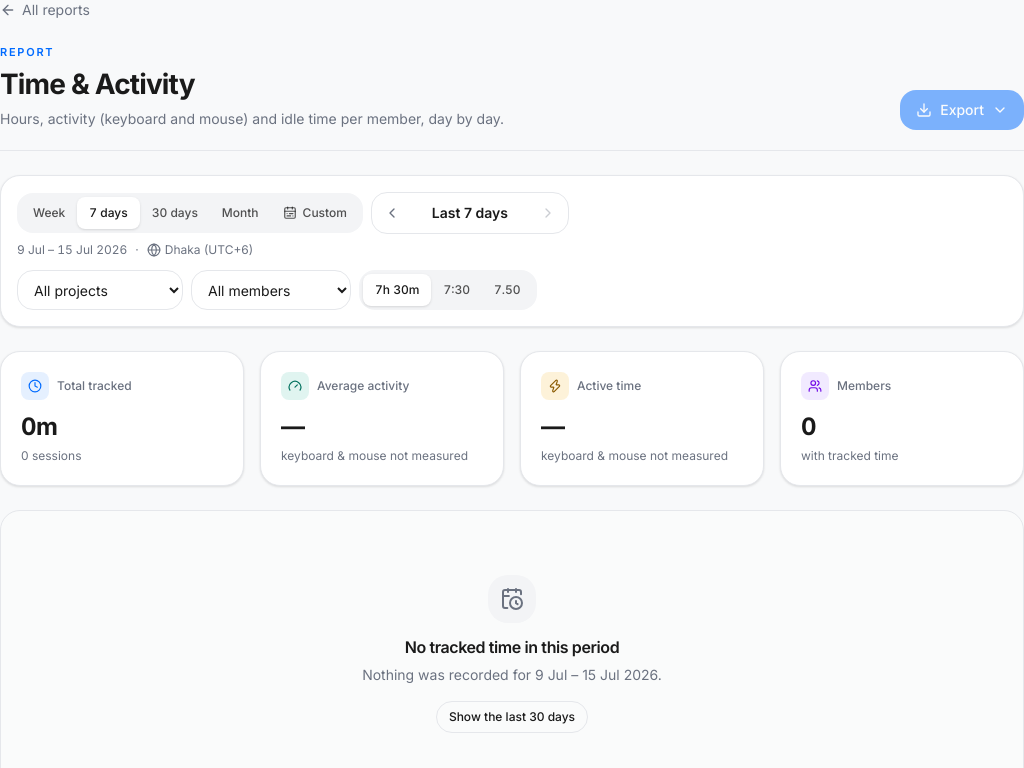
it: Time & Activity (live) › a custom range asks for exactly its days, in the reporting zone
Expected: the text "No tracked time in this period" is shown, [405,637,619,657]
Click the button "Custom" at (315, 213), box [271,197,359,229]
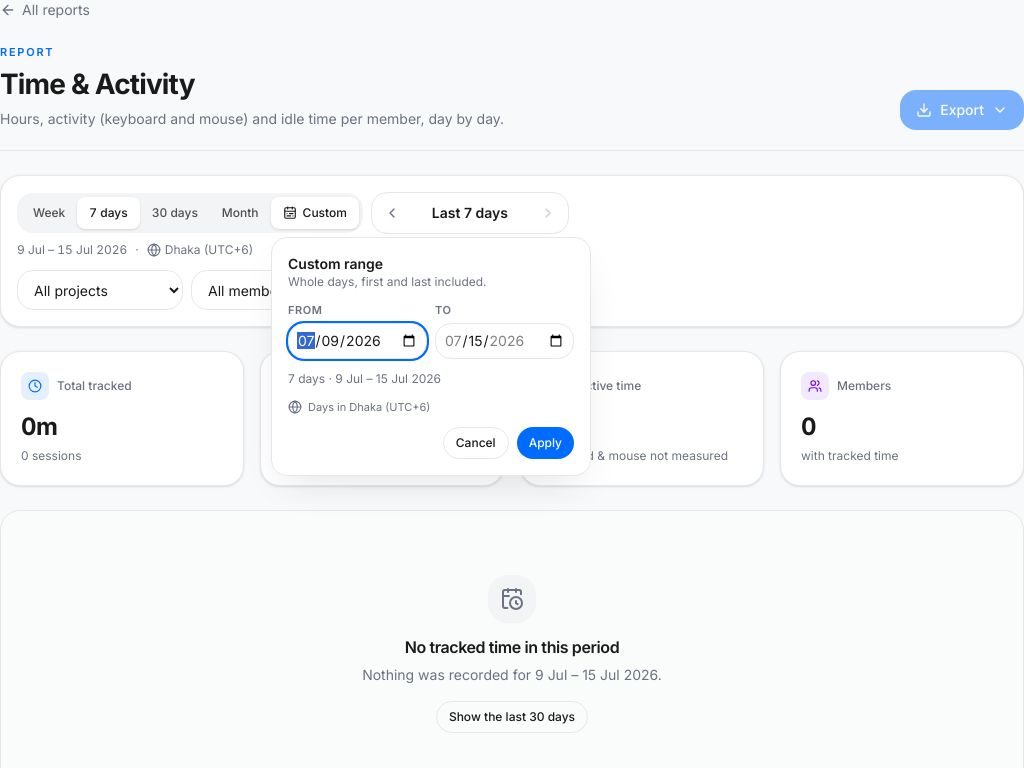
Type "2026-07-01" into the date field labelled "From" at (358, 340), box [288,322,427,358]
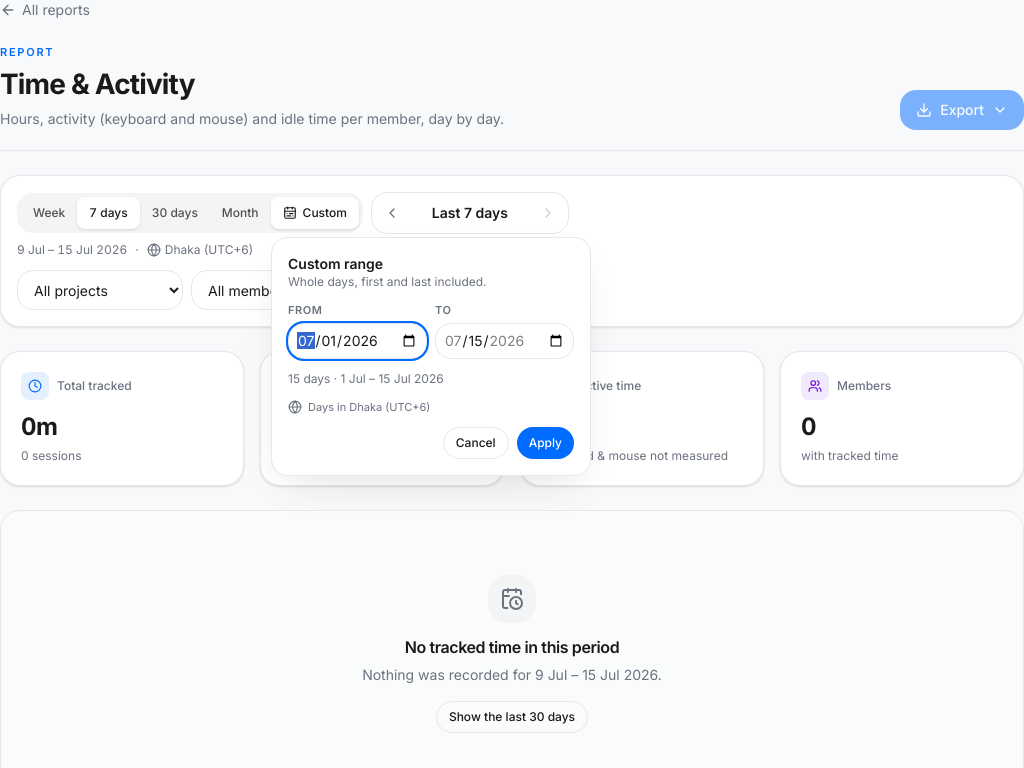
Type "2026-07-11" into the date field labelled "To" at (504, 340), box [435,322,574,358]
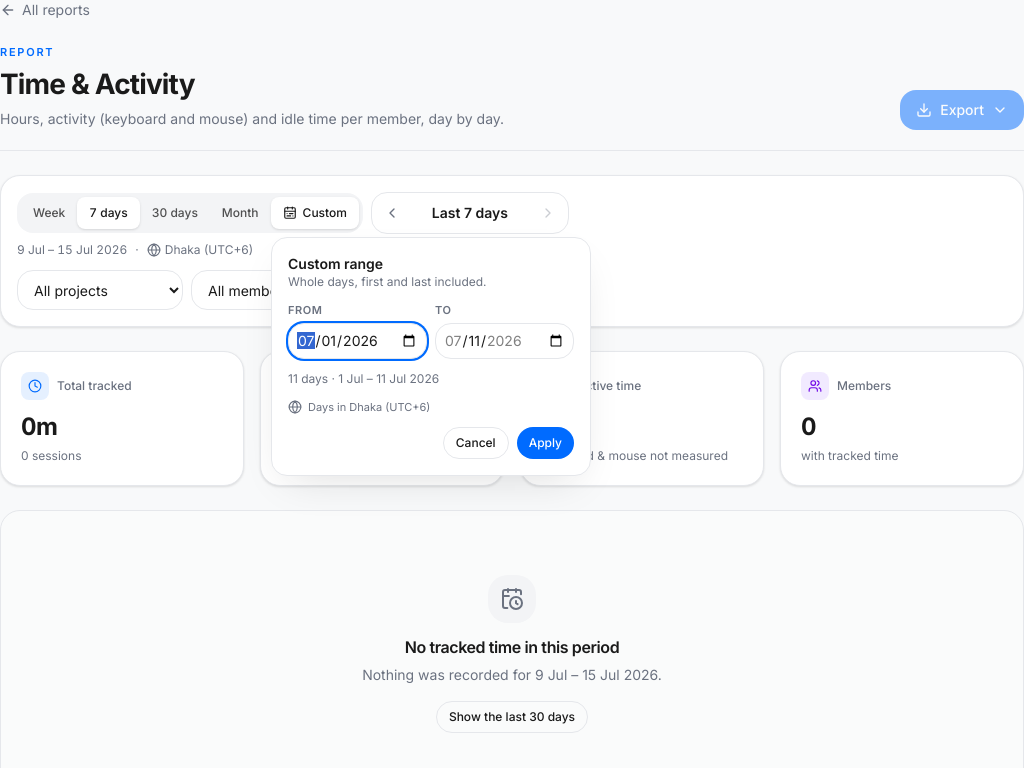
Click the button "Apply" at (545, 443), box [517,427,574,459]
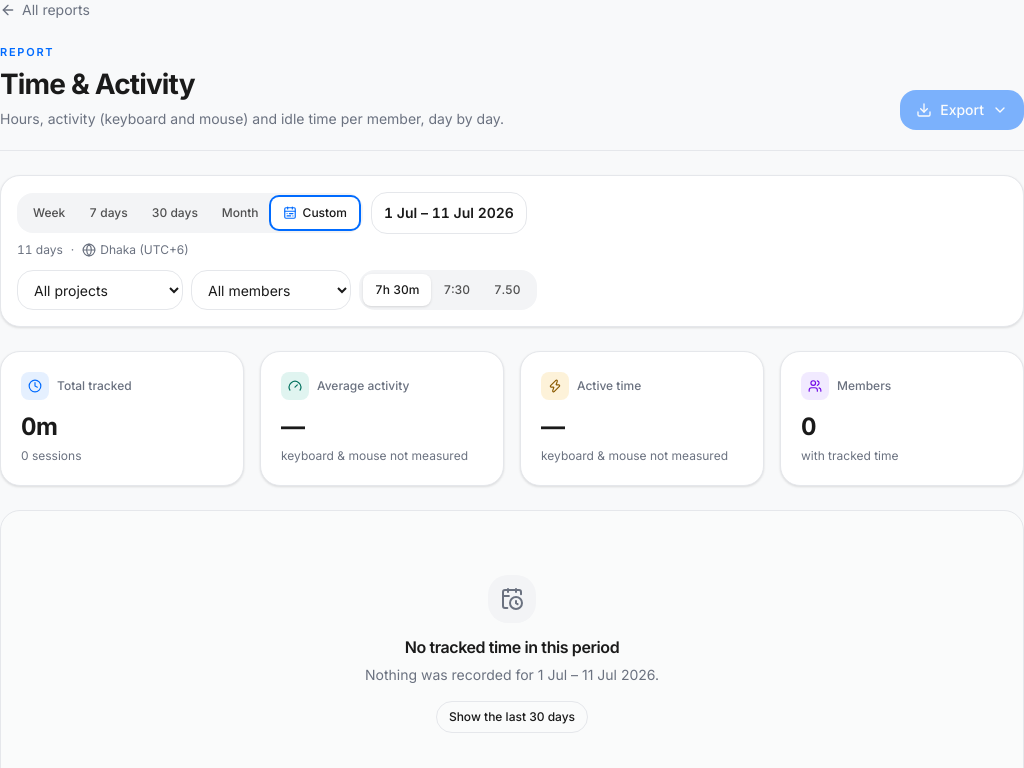
Result: the text "1 Jul – 11 Jul 2026" is shown at [384,204,514,221]
